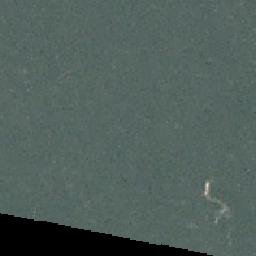debris: (202, 180, 229, 222)
